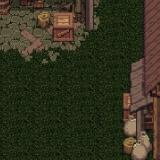Hide: (20, 16, 83, 89)
Obstacle: (100, 0, 160, 160), (0, 0, 100, 65)
